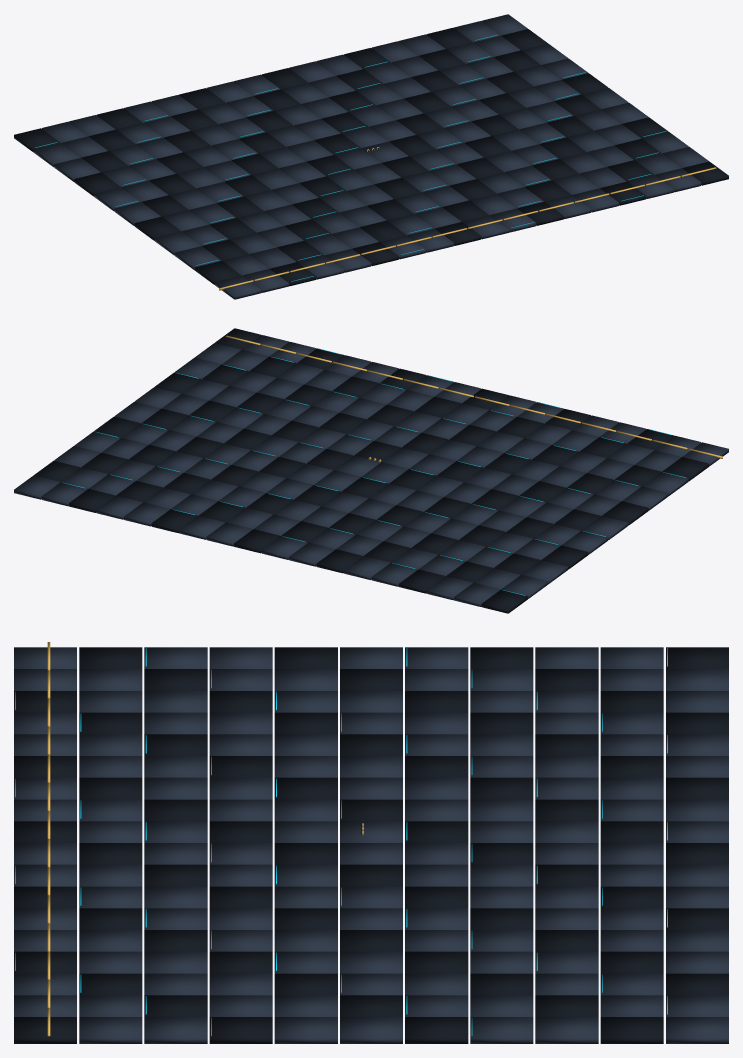
File: 00_L93_Aurora1ScienceLaboratoryDeck.fbx
3 views of the same model, one above another, from view 1: azimuth 30°, elevation 25°; view 2: azimuth 150°, elevation 25°; view 3: azimuth 270°, elevation 25° (orthographic). The views are drawn at different scales.
Visible parts, largest first — view 1: L92_Aurora1ScienceLaboratoryDeck_Part_0000, L92_Aurora1ScienceLaboratoryDeck_Part_0007, L92_Aurora1ScienceLaboratoryDeck_Part_0002, L92_Aurora1ScienceLaboratoryDeck_Part_0001, L92_Aurora1ScienceLaboratoryDeck_Part_0012, L92_Aurora1ScienceLaboratoryDeck_Part_0011, L92_Aurora1ScienceLaboratoryDeck_Part_0009, L92_Aurora1ScienceLaboratoryDeck_Part_0008, L92_Aurora1ScienceLaboratoryDeck_Part_0010, L92_Aurora1ScienceLaboratoryDeck_Part_0013, L92_Aurora1ScienceLaboratoryDeck_Part_0003, L92_Aurora1ScienceLaboratoryDeck_Part_0014 (+2 smaller); view 2: L92_Aurora1ScienceLaboratoryDeck_Part_0000, L92_Aurora1ScienceLaboratoryDeck_Part_0007, L92_Aurora1ScienceLaboratoryDeck_Part_0002, L92_Aurora1ScienceLaboratoryDeck_Part_0001, L92_Aurora1ScienceLaboratoryDeck_Part_0011, L92_Aurora1ScienceLaboratoryDeck_Part_0012, L92_Aurora1ScienceLaboratoryDeck_Part_0008, L92_Aurora1ScienceLaboratoryDeck_Part_0009, L92_Aurora1ScienceLaboratoryDeck_Part_0010, L92_Aurora1ScienceLaboratoryDeck_Part_0013, L92_Aurora1ScienceLaboratoryDeck_Part_0003, L92_Aurora1ScienceLaboratoryDeck_Part_0014 (+2 smaller); view 3: L92_Aurora1ScienceLaboratoryDeck_Part_0002, L92_Aurora1ScienceLaboratoryDeck_Part_0001, L92_Aurora1ScienceLaboratoryDeck_Part_0012, L92_Aurora1ScienceLaboratoryDeck_Part_0009, L92_Aurora1ScienceLaboratoryDeck_Part_0010, L92_Aurora1ScienceLaboratoryDeck_Part_0011, L92_Aurora1ScienceLaboratoryDeck_Part_0000, L92_Aurora1ScienceLaboratoryDeck_Part_0008, L92_Aurora1ScienceLaboratoryDeck_Part_0007, L92_Aurora1ScienceLaboratoryDeck_Part_0013, L92_Aurora1ScienceLaboratoryDeck_Part_0003, L92_Aurora1ScienceLaboratoryDeck_Part_0014.
Part boxes in pixels (<box>): L92_Aurora1ScienceLaboratoryDeck_Part_0000: <box>14,108,331,286</box>; L92_Aurora1ScienceLaboratoryDeck_Part_0007: <box>34,115,288,299</box>; L92_Aurora1ScienceLaboratoryDeck_Part_0002: <box>336,27,653,225</box>; L92_Aurora1ScienceLaboratoryDeck_Part_0001: <box>179,68,496,265</box>; L92_Aurora1ScienceLaboratoryDeck_Part_0012: <box>399,21,673,212</box>; L92_Aurora1ScienceLaboratoryDeck_Part_0011: <box>316,41,591,232</box>; L92_Aurora1ScienceLaboratoryDeck_Part_0009: <box>199,74,453,259</box>; L92_Aurora1ScienceLaboratoryDeck_Part_0008: <box>116,95,371,279</box>; L92_Aurora1ScienceLaboratoryDeck_Part_0010: <box>274,61,516,239</box>; L92_Aurora1ScienceLaboratoryDeck_Part_0013: <box>481,14,708,192</box>; L92_Aurora1ScienceLaboratoryDeck_Part_0003: <box>501,29,728,185</box>; L92_Aurora1ScienceLaboratoryDeck_Part_0014: <box>219,167,716,290</box>; L92_Aurora1ScienceLaboratoryDeck_Part_0000: <box>364,429,708,613</box>; L92_Aurora1ScienceLaboratoryDeck_Part_0007: <box>426,435,728,606</box>; L92_Aurora1ScienceLaboratoryDeck_Part_0002: <box>69,348,426,532</box>; L92_Aurora1ScienceLaboratoryDeck_Part_0001: <box>234,388,591,573</box>; L92_Aurora1ScienceLaboratoryDeck_Part_0011: <box>124,362,453,539</box>; L92_Aurora1ScienceLaboratoryDeck_Part_0012: <box>41,341,370,519</box>; L92_Aurora1ScienceLaboratoryDeck_Part_0008: <box>344,415,653,586</box>; L92_Aurora1ScienceLaboratoryDeck_Part_0009: <box>261,395,571,566</box>; L92_Aurora1ScienceLaboratoryDeck_Part_0010: <box>206,382,488,546</box>; L92_Aurora1ScienceLaboratoryDeck_Part_0013: <box>14,335,288,499</box>; L92_Aurora1ScienceLaboratoryDeck_Part_0003: <box>34,328,261,482</box>; L92_Aurora1ScienceLaboratoryDeck_Part_0014: <box>226,335,722,458</box>; L92_Aurora1ScienceLaboratoryDeck_Part_0002: <box>14,886,728,1016</box>; L92_Aurora1ScienceLaboratoryDeck_Part_0001: <box>14,756,728,886</box>; L92_Aurora1ScienceLaboratoryDeck_Part_0012: <box>14,930,728,1016</box>; L92_Aurora1ScienceLaboratoryDeck_Part_0009: <box>14,756,728,842</box>; L92_Aurora1ScienceLaboratoryDeck_Part_0010: <box>14,821,728,886</box>; L92_Aurora1ScienceLaboratoryDeck_Part_0011: <box>14,864,728,951</box>; L92_Aurora1ScienceLaboratoryDeck_Part_0000: <box>14,647,728,777</box>; L92_Aurora1ScienceLaboratoryDeck_Part_0008: <box>14,691,728,777</box>; L92_Aurora1ScienceLaboratoryDeck_Part_0007: <box>14,647,728,712</box>; L92_Aurora1ScienceLaboratoryDeck_Part_0013: <box>14,995,728,1043</box>; L92_Aurora1ScienceLaboratoryDeck_Part_0003: <box>14,995,663,1043</box>; L92_Aurora1ScienceLaboratoryDeck_Part_0014: <box>47,642,50,1036</box>.
Size of the model in its own units: 2721 by 65.5 by 2084.
